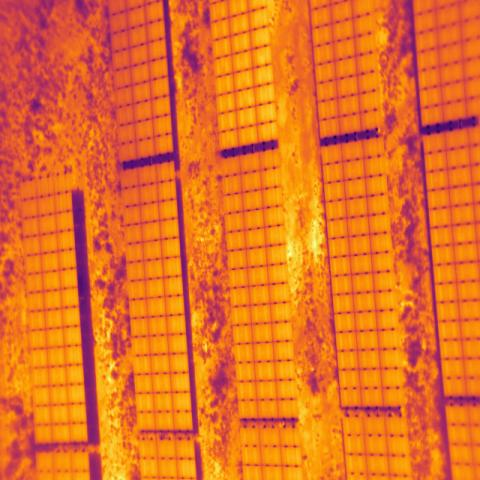fault: (176, 459, 197, 479)
